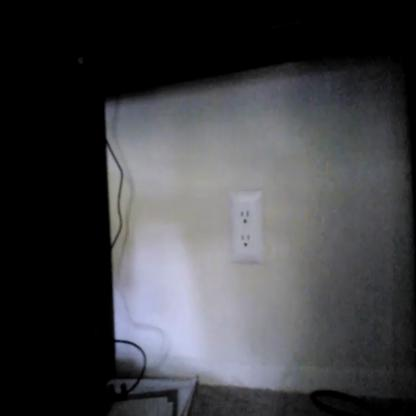OUTLET: (231, 191, 264, 264)
